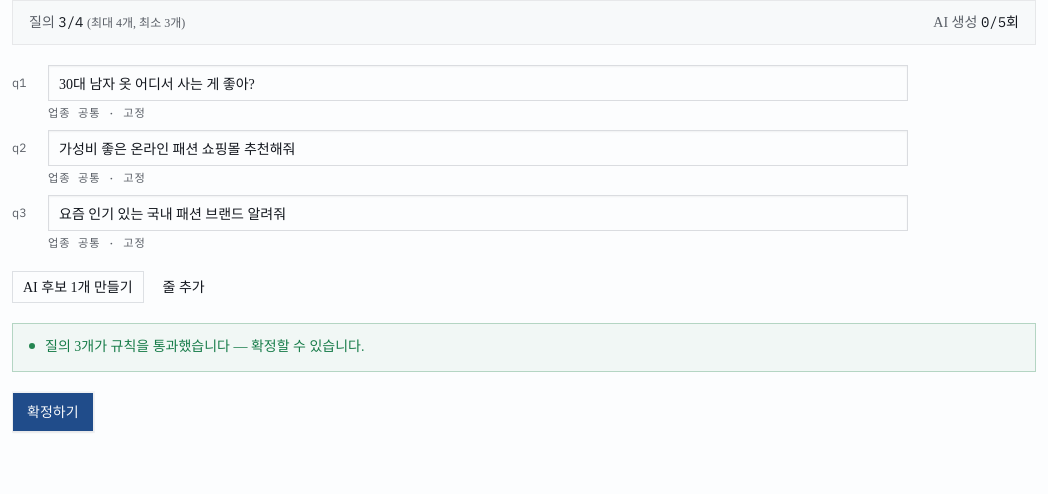
Scenario: QueryEditor — AI 생성 › 빈 칸이 없으면 남은 상한만큼 줄을 늘려 생성한다
Click the button "AI 후보 1개 만들기": point(78, 288) [12,272,144,304]
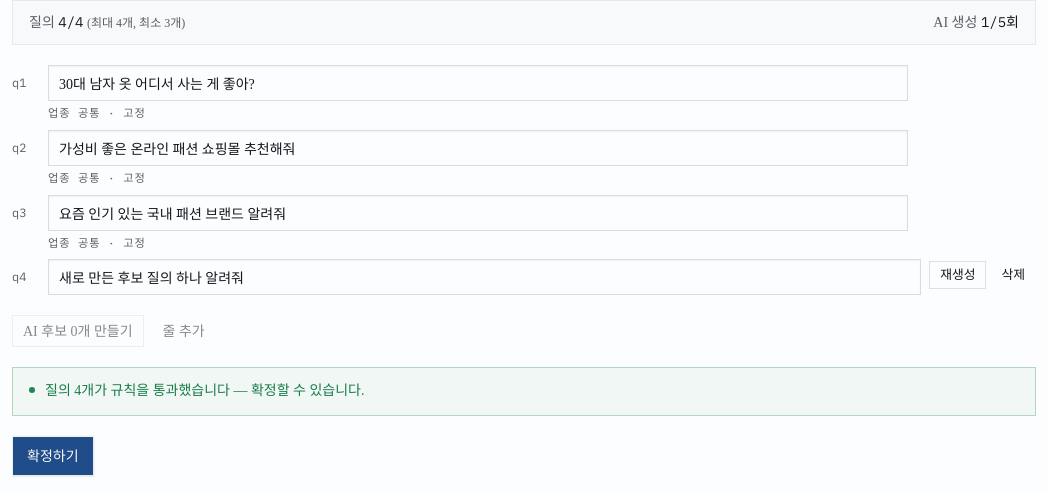
Now the button with aria-label "질의 4 삭제" is enabled, box [990,262,1036,290]
Now the number of fields is 4, box [48,65,908,101]; [48,130,908,166]; [48,195,908,231]; [48,260,921,296]
